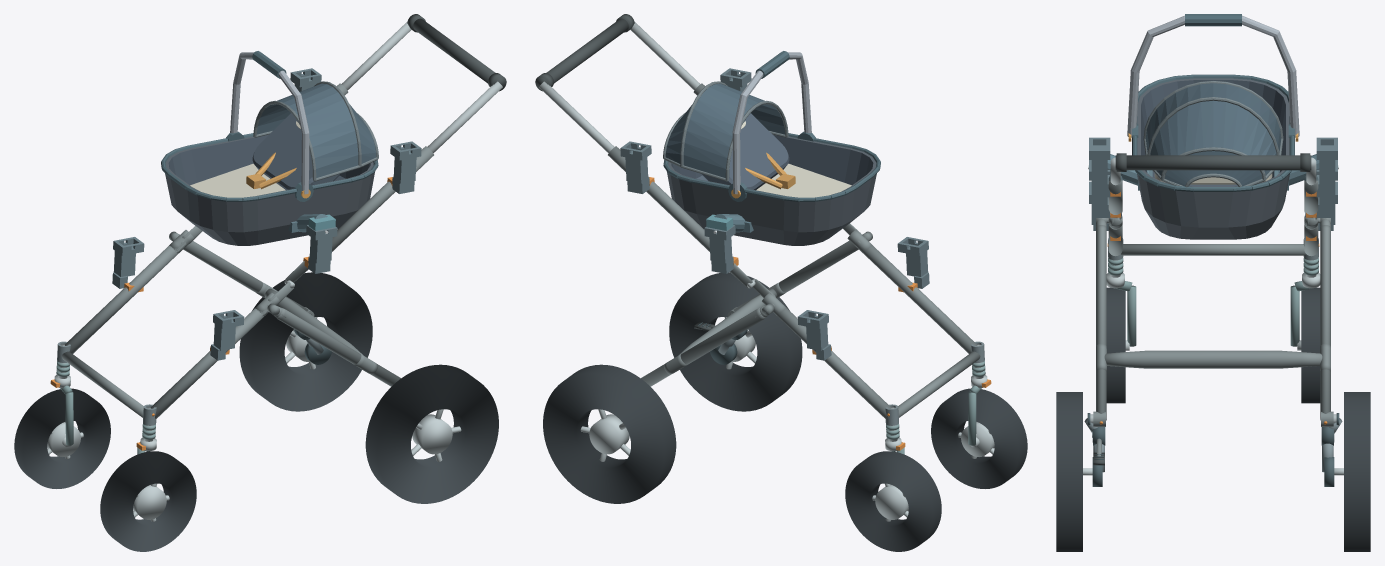
File: S07_w550_state1_wheel_L.glb
3 views of the same model, side by side, from view 1: azimuth 30°, elevation 25°; view 2: azimuth 150°, elevation 25°; view 3: azimuth 270°, elevation 25° (orthographic). The views are drawn at different scales.
Parts seen in each view (by area): view 1: S07_Cabin, RL_tire.002, RR_tire.002, FL_tire.002, FR_tire.002, main_lower_1.003, V46_rear_leg_-1.003, main_lower_-1.003, round_handle.002, main_upper_-1.003, Universal_Cabin_Receiver_H_-1, V46_rear_leg_1.003 (+11 smaller); view 2: S07_Cabin, RR_tire.002, RL_tire.002, FR_tire.002, FL_tire.002, main_lower_-1.003, V46_rear_leg_1.003, main_lower_1.003, round_handle.002, main_upper_1.003, Universal_Cabin_Receiver_H_1, V46_rear_leg_-1.003 (+11 smaller); view 3: S07_Cabin, RL_tire.002, RR_tire.002, V46_rearbar.003, round_handle.002, front_fixed_round_tube.002, FL_tire.002, FR_tire.002, V46_rear_leg_1.003, V46_rear_leg_-1.003, Universal_Cabin_Receiver_H_1, Universal_Cabin_Receiver_H_-1 (+7 smaller).
Boxes of the visible parts, bbox=[...] form: S07_Cabin: bbox=[161, 51, 378, 245]; RL_tire.002: bbox=[365, 364, 498, 503]; RR_tire.002: bbox=[239, 272, 372, 411]; FL_tire.002: bbox=[100, 451, 196, 551]; FR_tire.002: bbox=[14, 388, 110, 488]; main_lower_1.003: bbox=[65, 242, 186, 353]; V46_rear_leg_-1.003: bbox=[276, 308, 400, 386]; main_lower_-1.003: bbox=[150, 308, 267, 418]; round_handle.002: bbox=[413, 18, 505, 89]; main_upper_-1.003: bbox=[332, 146, 433, 251]; Universal_Cabin_Receiver_H_-1: bbox=[390, 141, 421, 193]; V46_rear_leg_1.003: bbox=[183, 241, 310, 313]; S07_Cabin: bbox=[663, 51, 880, 245]; RR_tire.002: bbox=[543, 364, 676, 503]; RL_tire.002: bbox=[669, 272, 802, 411]; FR_tire.002: bbox=[845, 451, 941, 551]; FL_tire.002: bbox=[931, 388, 1027, 488]; main_lower_-1.003: bbox=[855, 242, 976, 353]; V46_rear_leg_1.003: bbox=[641, 308, 765, 386]; main_lower_1.003: bbox=[774, 308, 891, 418]; round_handle.002: bbox=[536, 18, 628, 89]; main_upper_1.003: bbox=[608, 146, 709, 251]; Universal_Cabin_Receiver_H_1: bbox=[620, 141, 651, 193]; V46_rear_leg_-1.003: bbox=[731, 240, 858, 313]; S07_Cabin: bbox=[1127, 14, 1299, 239]; RL_tire.002: bbox=[1056, 392, 1082, 551]; RR_tire.002: bbox=[1344, 392, 1370, 551]; V46_rearbar.003: bbox=[1104, 350, 1322, 368]; round_handle.002: bbox=[1115, 155, 1311, 170]; front_fixed_round_tube.002: bbox=[1121, 244, 1305, 255]; FL_tire.002: bbox=[1106, 287, 1125, 403]; FR_tire.002: bbox=[1301, 287, 1320, 403]; V46_rear_leg_1.003: bbox=[1320, 225, 1330, 420]; V46_rear_leg_-1.003: bbox=[1096, 225, 1106, 420]; Universal_Cabin_Receiver_H_1: bbox=[1316, 137, 1337, 197]; Universal_Cabin_Receiver_H_-1: bbox=[1089, 137, 1110, 197].
Bounding box in the file's own units: 1.19 × 1.18 × 0.7071.
